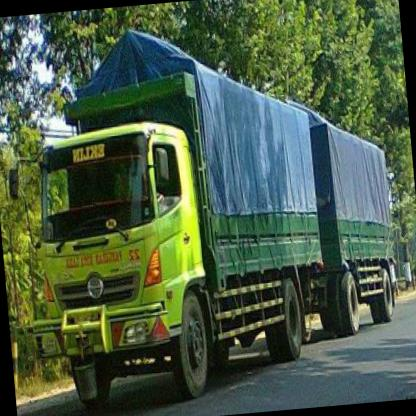truck: (28, 116, 218, 416)
